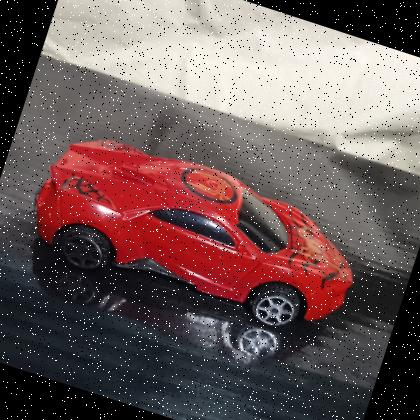Car: (12, 107, 382, 357)
